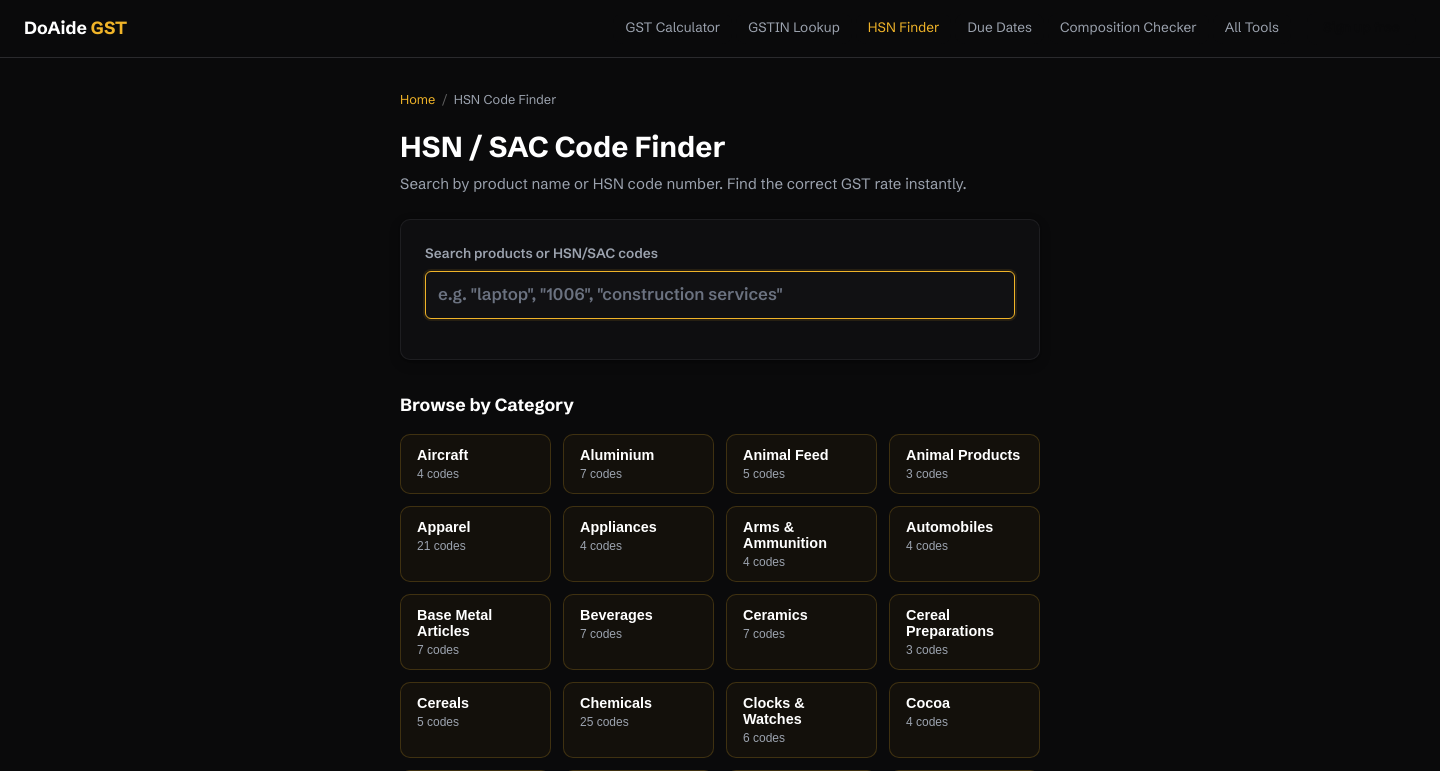
Test: HsnFinderPage › copy button shows Copied! on click
In the search field with placeholder "e.g. \"laptop\", \"1006\", \"construction services\"": (720, 295) [425,271,1015,319], type "cement"
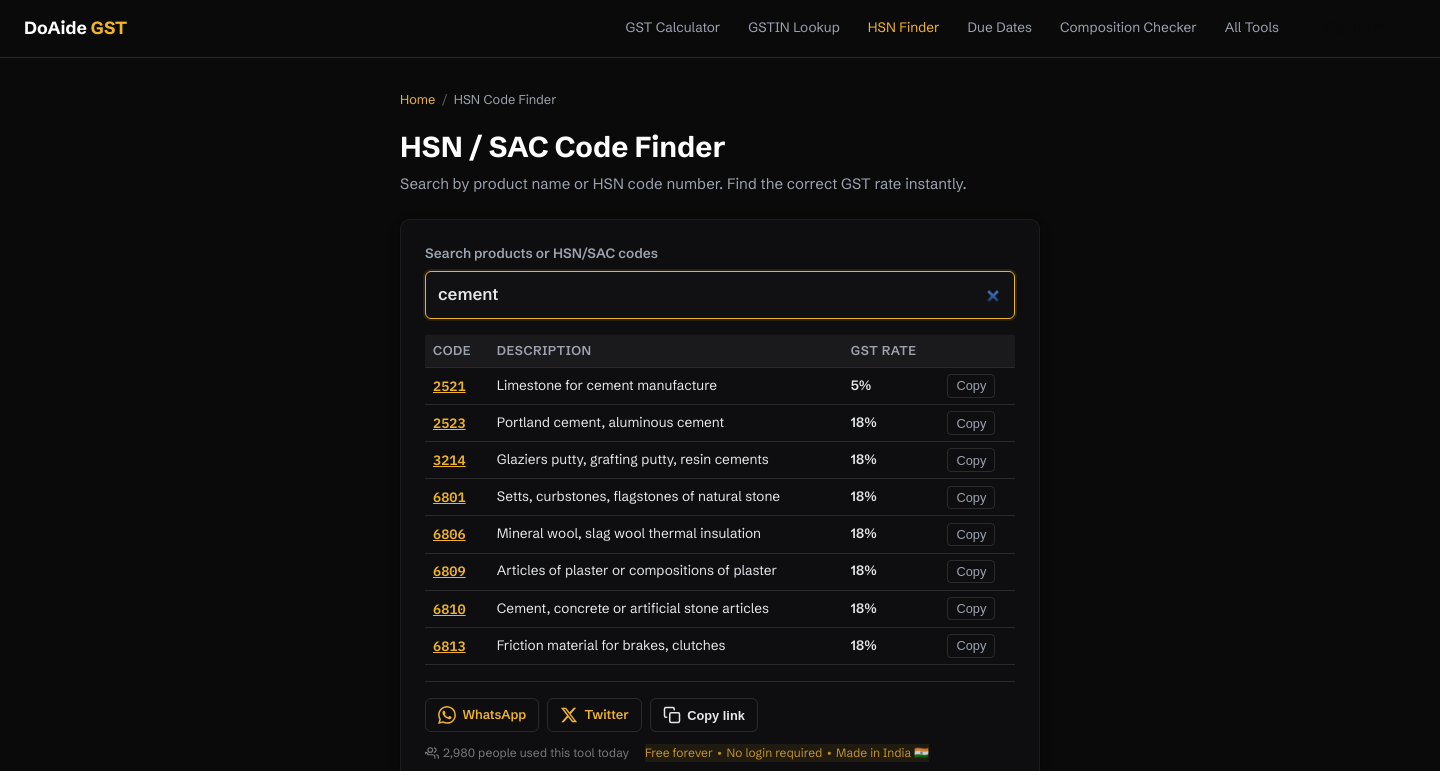
Click the button "Copy" in the row of "2521": (971, 386) [947,374,995,398]
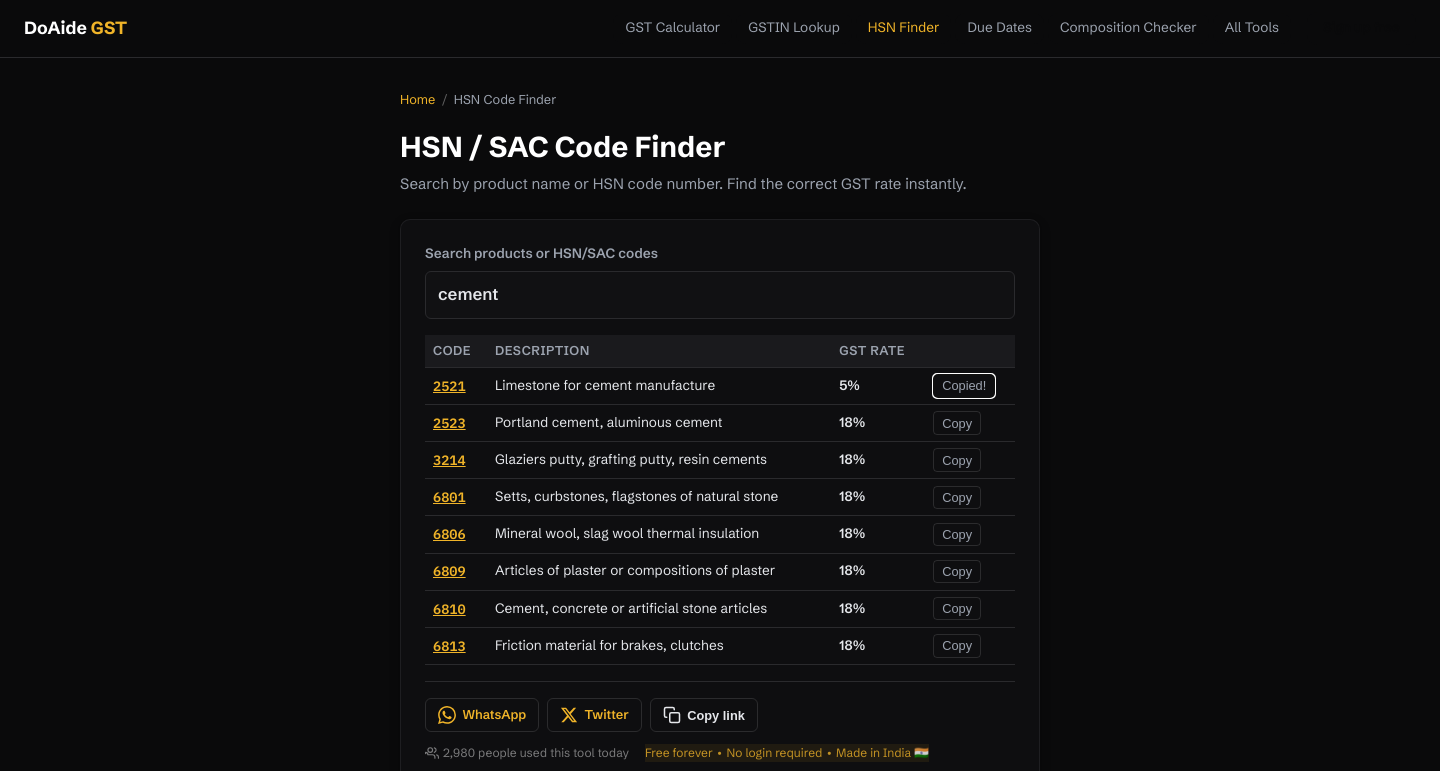
Result: the button "Copied!" is shown at [933,374,995,398]
